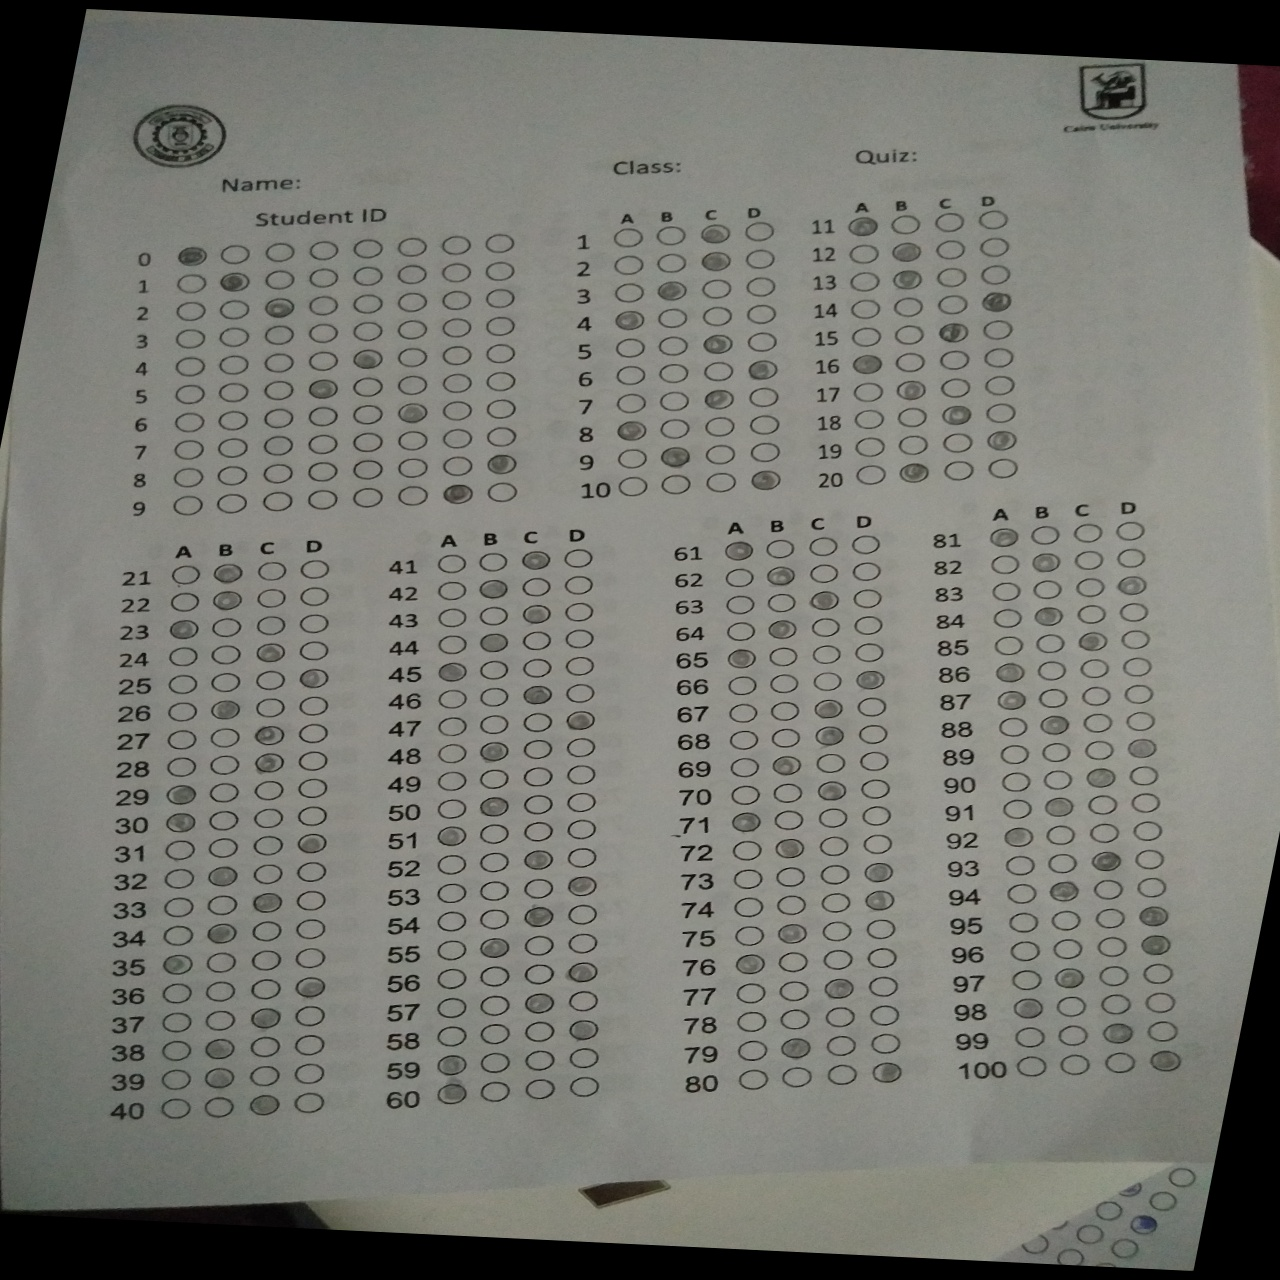not-c: (392, 234, 431, 260), (747, 440, 787, 465), (651, 305, 690, 331), (257, 324, 297, 348), (393, 290, 433, 314), (610, 252, 649, 277), (652, 223, 692, 247), (392, 483, 431, 508), (302, 488, 342, 512), (611, 392, 651, 416), (699, 359, 738, 383), (849, 379, 888, 403), (849, 435, 888, 459), (847, 462, 887, 486), (975, 263, 1015, 287), (930, 237, 969, 261), (931, 210, 971, 234), (291, 945, 328, 971), (436, 452, 475, 477), (260, 350, 299, 375), (394, 373, 433, 397), (258, 377, 297, 402), (394, 345, 433, 369), (392, 318, 430, 342), (215, 325, 253, 349), (481, 285, 519, 309), (347, 291, 386, 315), (171, 298, 210, 322), (172, 270, 211, 294), (349, 264, 388, 288), (347, 237, 386, 261), (306, 237, 345, 261), (259, 239, 298, 264), (215, 241, 253, 266), (394, 455, 433, 479), (393, 428, 431, 452), (612, 445, 651, 470), (615, 474, 654, 498), (302, 459, 341, 484), (258, 461, 297, 485), (258, 433, 297, 457), (481, 396, 519, 421), (258, 406, 297, 430), (212, 408, 251, 433), (347, 485, 386, 510), (258, 490, 297, 515), (656, 360, 695, 384), (745, 384, 784, 409), (697, 304, 736, 328), (846, 297, 885, 321), (978, 316, 1016, 341), (847, 325, 886, 349), (891, 406, 930, 430), (850, 408, 888, 433), (935, 347, 974, 372), (980, 346, 1019, 370), (980, 373, 1019, 397), (700, 414, 738, 438), (745, 411, 784, 436), (845, 268, 884, 293), (697, 277, 736, 301), (932, 264, 971, 288), (975, 234, 1014, 259), (974, 207, 1013, 232), (476, 1021, 515, 1046), (522, 1019, 560, 1043), (475, 993, 513, 1017), (475, 964, 513, 988), (433, 966, 471, 990), (481, 342, 520, 366), (302, 320, 342, 343), (651, 252, 690, 275), (346, 457, 386, 481), (481, 369, 520, 393), (435, 399, 475, 422), (302, 403, 342, 427), (611, 363, 651, 387), (985, 457, 1024, 481), (738, 274, 778, 298), (215, 380, 252, 404), (215, 353, 252, 377), (347, 319, 384, 343), (215, 298, 252, 322), (481, 259, 518, 284), (479, 231, 517, 256), (437, 425, 475, 450), (934, 292, 972, 316), (982, 401, 1020, 425), (474, 604, 511, 628), (433, 551, 470, 576), (1048, 937, 1085, 961), (564, 931, 601, 955), (734, 1067, 771, 1091), (816, 890, 853, 914), (563, 816, 600, 840), (1143, 1019, 1180, 1043), (204, 835, 241, 859), (293, 748, 331, 772), (163, 699, 200, 723), (433, 908, 470, 933), (290, 1061, 327, 1085), (474, 878, 511, 903), (519, 1047, 557, 1071), (567, 1073, 605, 1097), (433, 937, 470, 961), (437, 372, 476, 395), (347, 375, 386, 399), (305, 349, 343, 373), (171, 355, 210, 379), (438, 342, 477, 366), (479, 314, 518, 338), (438, 316, 477, 340), (172, 327, 211, 350), (611, 281, 649, 305), (437, 288, 476, 312), (304, 293, 342, 316), (258, 267, 297, 291), (392, 263, 430, 286), (437, 261, 476, 285), (741, 247, 779, 271), (741, 219, 779, 243), (435, 233, 474, 257), (655, 417, 694, 441), (701, 443, 740, 467), (700, 470, 738, 493), (482, 481, 520, 504), (348, 430, 387, 454), (213, 463, 252, 486), (304, 431, 342, 455), (213, 436, 252, 459), (482, 424, 520, 448), (348, 402, 387, 425), (211, 491, 250, 515), (170, 493, 209, 517), (169, 467, 207, 490), (169, 437, 207, 461), (169, 410, 207, 434), (653, 334, 692, 358), (742, 331, 781, 354), (742, 301, 781, 325), (612, 335, 651, 359), (888, 294, 927, 318), (891, 324, 930, 347), (891, 350, 930, 374), (937, 376, 975, 400), (939, 431, 978, 455), (892, 433, 931, 456), (939, 459, 978, 483), (654, 389, 693, 413), (558, 546, 597, 570), (844, 241, 883, 265), (886, 212, 925, 236), (476, 1078, 515, 1102), (520, 1077, 559, 1101), (763, 588, 799, 613), (762, 536, 798, 560), (433, 714, 469, 738), (855, 694, 891, 719), (765, 672, 802, 696), (561, 653, 598, 678), (206, 779, 243, 804), (295, 610, 332, 634), (294, 584, 331, 608), (724, 755, 761, 779), (561, 761, 598, 785), (519, 735, 556, 760), (563, 735, 599, 760), (765, 697, 802, 722), (1007, 938, 1043, 962), (1006, 910, 1042, 934), (1091, 877, 1128, 901), (999, 769, 1035, 794), (1035, 686, 1071, 710), (862, 915, 898, 940), (1054, 993, 1090, 1017), (163, 727, 199, 751), (165, 670, 202, 695), (165, 644, 202, 668), (200, 1094, 237, 1118), (157, 1067, 193, 1091), (246, 1034, 282, 1058), (173, 382, 211, 406), (656, 472, 694, 496), (847, 559, 885, 583), (722, 592, 760, 615), (474, 712, 511, 735), (474, 685, 511, 708), (251, 613, 288, 636), (252, 559, 290, 583), (810, 668, 847, 692), (851, 640, 888, 663), (765, 645, 803, 668), (806, 614, 844, 638), (474, 658, 511, 681), (433, 578, 470, 601), (474, 549, 511, 572), (810, 750, 847, 774), (1041, 823, 1078, 846), (1126, 791, 1164, 815), (994, 715, 1032, 738), (520, 933, 558, 956), (822, 1034, 859, 1057), (821, 1005, 858, 1028), (864, 974, 901, 998), (857, 804, 894, 828), (767, 779, 804, 803), (727, 783, 764, 806), (1101, 1050, 1138, 1074), (1055, 1051, 1092, 1075), (162, 754, 199, 777), (475, 822, 512, 845), (248, 806, 286, 830), (162, 837, 199, 860), (433, 797, 470, 821), (476, 767, 513, 790), (293, 776, 331, 799), (252, 668, 290, 692), (156, 1097, 193, 1121), (157, 1037, 195, 1061), (200, 1008, 238, 1032), (203, 949, 240, 973), (434, 881, 471, 905), (248, 919, 286, 942), (292, 888, 329, 912), (250, 862, 287, 885), (159, 866, 197, 890), (477, 1050, 515, 1074), (565, 1046, 602, 1069), (431, 1023, 469, 1047), (433, 996, 470, 1020), (565, 988, 602, 1012), (522, 961, 559, 985), (1032, 631, 1067, 655), (1039, 741, 1074, 765), (996, 741, 1032, 765), (520, 876, 556, 900), (1098, 990, 1133, 1015), (292, 1032, 327, 1056), (476, 850, 511, 874), (608, 226, 647, 248), (1033, 659, 1069, 682), (1117, 627, 1153, 651), (1029, 578, 1065, 601), (989, 634, 1026, 658), (1117, 600, 1153, 624), (804, 535, 840, 558), (1074, 602, 1110, 626), (988, 579, 1024, 602), (1071, 547, 1108, 571), (1026, 523, 1062, 546), (1121, 681, 1157, 704), (433, 687, 469, 710), (253, 586, 290, 610), (724, 674, 761, 697), (723, 620, 760, 644), (518, 655, 554, 679), (433, 632, 469, 655), (433, 605, 469, 628), (855, 749, 891, 772), (519, 764, 556, 788), (726, 727, 762, 750), (724, 702, 761, 726), (1002, 853, 1039, 877), (1085, 821, 1122, 844), (1039, 768, 1075, 791), (1080, 710, 1116, 734), (1078, 685, 1115, 708), (772, 893, 809, 917), (733, 1039, 769, 1062), (776, 1007, 812, 1030), (774, 979, 810, 1002), (731, 981, 768, 1005), (862, 946, 898, 969), (818, 947, 855, 971), (775, 949, 811, 973), (818, 919, 855, 942), (816, 862, 852, 885), (564, 903, 600, 926), (564, 845, 600, 869), (561, 790, 598, 813), (519, 819, 556, 843), (729, 866, 765, 890), (769, 808, 805, 831), (1012, 1024, 1048, 1048), (1142, 989, 1178, 1013), (730, 924, 767, 947), (294, 721, 331, 744), (206, 724, 243, 748), (297, 694, 333, 717), (252, 695, 288, 719), (166, 563, 203, 586), (476, 907, 512, 931), (290, 1090, 326, 1114), (158, 1010, 195, 1034), (292, 1005, 328, 1028), (202, 979, 238, 1002), (159, 981, 196, 1005), (292, 917, 328, 940), (719, 566, 756, 588), (1076, 656, 1114, 679), (517, 576, 554, 598), (767, 726, 804, 748), (1008, 968, 1046, 990), (731, 1009, 769, 1032), (520, 792, 558, 815), (858, 832, 896, 855), (727, 839, 764, 862), (813, 805, 851, 828), (292, 860, 329, 883), (850, 586, 885, 610), (1112, 518, 1148, 542), (1071, 520, 1107, 544), (434, 741, 469, 764), (560, 627, 595, 651), (297, 639, 332, 662), (297, 558, 332, 581), (853, 722, 888, 745), (1092, 906, 1128, 930), (1003, 881, 1039, 905), (1046, 852, 1081, 876), (1133, 874, 1169, 898), (999, 797, 1034, 821), (867, 1032, 903, 1055), (857, 776, 892, 799), (1014, 1054, 1049, 1077), (206, 753, 241, 776), (159, 924, 195, 947), (252, 778, 287, 802), (205, 808, 240, 831), (433, 769, 468, 792), (166, 588, 202, 612), (986, 553, 1022, 576), (1121, 655, 1157, 678), (988, 607, 1024, 629), (847, 532, 884, 554), (518, 712, 554, 734), (561, 682, 598, 704), (518, 629, 554, 652), (559, 573, 595, 595), (1096, 964, 1132, 986), (1092, 935, 1129, 958), (1131, 847, 1167, 870), (1129, 821, 1165, 843), (1081, 738, 1117, 761), (866, 1003, 903, 1026), (771, 866, 808, 888), (815, 835, 851, 857), (1054, 1023, 1090, 1046), (294, 805, 331, 828), (250, 835, 286, 857), (206, 644, 243, 666), (246, 948, 282, 971), (433, 853, 469, 876), (204, 893, 240, 915), (159, 896, 196, 918), (730, 896, 765, 918), (806, 561, 842, 584), (1073, 576, 1108, 598), (1114, 546, 1149, 568), (808, 644, 843, 666), (852, 614, 887, 636), (561, 601, 597, 624), (1141, 962, 1176, 985), (1048, 908, 1083, 931), (1085, 794, 1121, 816), (1126, 764, 1162, 787), (1123, 710, 1158, 733), (824, 1063, 859, 1085), (206, 670, 241, 693), (209, 617, 244, 639), (247, 1063, 282, 1085), (779, 1065, 813, 1088), (248, 978, 282, 1000)
taken-c: (173, 244, 212, 268), (994, 687, 1032, 712), (1040, 794, 1077, 818), (1137, 932, 1175, 956), (847, 352, 885, 376), (762, 563, 799, 587), (653, 278, 690, 302), (476, 935, 515, 959), (727, 811, 765, 835), (983, 525, 1022, 549), (520, 905, 557, 930), (1051, 966, 1088, 990), (433, 660, 469, 685), (433, 1083, 470, 1107), (563, 960, 600, 983), (522, 990, 559, 1014), (248, 890, 286, 913), (204, 865, 241, 888), (293, 831, 331, 855), (768, 754, 805, 777), (1088, 850, 1125, 873), (1135, 904, 1172, 927), (252, 640, 290, 663), (475, 738, 512, 762), (163, 783, 200, 806), (162, 810, 199, 833), (476, 794, 513, 817), (748, 468, 785, 491), (939, 402, 976, 425), (896, 462, 933, 485), (983, 428, 1021, 451), (1028, 551, 1065, 574), (720, 538, 757, 561), (696, 222, 734, 245), (701, 387, 738, 410), (304, 377, 341, 401), (215, 270, 252, 293), (894, 377, 930, 402), (291, 975, 329, 998), (1082, 765, 1121, 788), (251, 751, 290, 774), (730, 952, 767, 975), (778, 1036, 815, 1060), (870, 1060, 906, 1083), (246, 1092, 282, 1116), (199, 1065, 236, 1089), (246, 1007, 282, 1030), (158, 952, 195, 975), (433, 1053, 469, 1076), (1036, 713, 1073, 736), (771, 835, 808, 858), (862, 888, 898, 912), (1099, 1021, 1136, 1044), (1148, 1049, 1184, 1073), (990, 661, 1027, 685), (726, 647, 762, 670), (852, 668, 888, 692), (811, 722, 847, 745), (475, 577, 511, 600), (165, 617, 202, 640), (475, 629, 511, 653), (297, 666, 333, 689), (561, 708, 598, 731), (206, 697, 243, 721), (978, 290, 1014, 313), (613, 418, 649, 442), (1030, 604, 1067, 627), (806, 590, 843, 613), (764, 617, 801, 640), (697, 248, 734, 272), (697, 332, 734, 355), (744, 358, 781, 381), (438, 481, 475, 504), (394, 402, 430, 425), (350, 347, 387, 370), (564, 874, 601, 897), (564, 1017, 601, 1040), (200, 1037, 238, 1060), (200, 921, 238, 944), (813, 779, 851, 802), (774, 922, 811, 945), (858, 860, 896, 883), (1046, 880, 1083, 903), (810, 696, 847, 719), (210, 561, 247, 584), (251, 723, 288, 745), (433, 825, 470, 847), (844, 215, 881, 237), (888, 240, 926, 263), (888, 268, 926, 291), (1074, 629, 1111, 652), (610, 308, 647, 331), (483, 452, 520, 475), (519, 847, 554, 871), (1123, 737, 1159, 760), (821, 976, 857, 999), (1001, 825, 1037, 847), (1010, 998, 1047, 1020), (518, 549, 554, 571), (519, 602, 556, 625), (207, 588, 244, 611), (518, 683, 554, 706), (658, 445, 694, 468), (1114, 573, 1150, 595), (261, 297, 298, 319), (935, 321, 971, 343)
